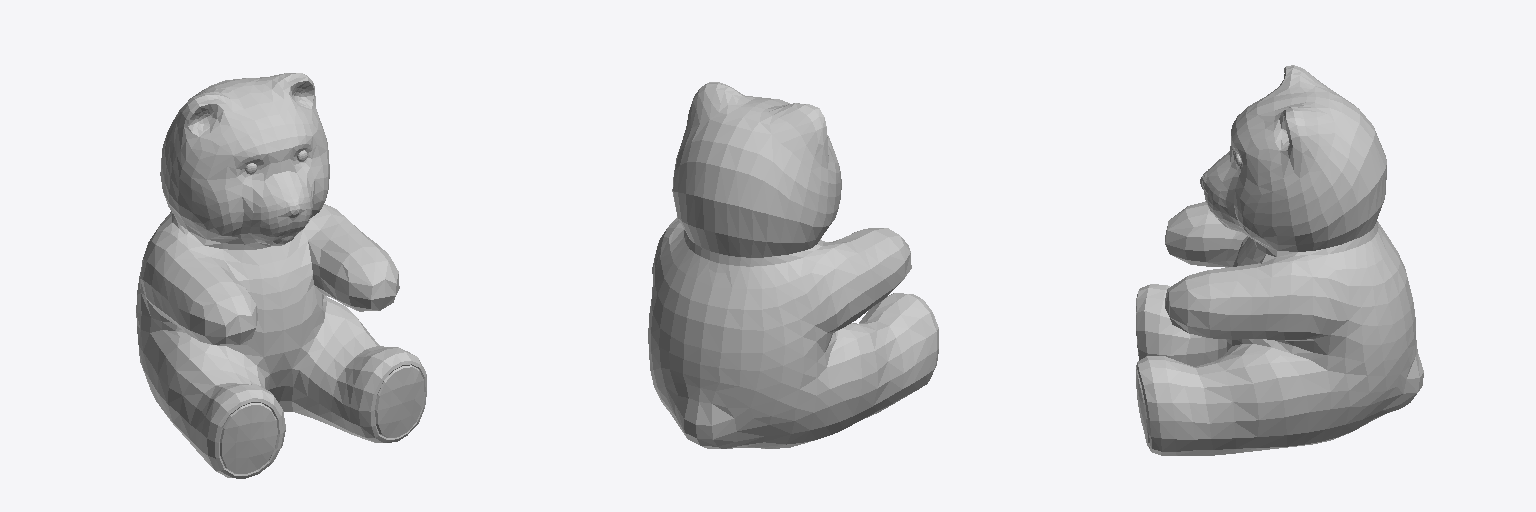
The model's file is Ursinho.obj.
3 views of the same model, side by side, from view 1: azimuth 30°, elevation 25°; view 2: azimuth 150°, elevation 25°; view 3: azimuth 270°, elevation 25° (orthographic).
Visible parts, largest first — view 1: Bear:Mesh; view 2: Bear:Mesh; view 3: Bear:Mesh.
Part boxes in pixels (x1,y1,x2,y2): Bear:Mesh: (136,73,426,478); Bear:Mesh: (648,82,938,448); Bear:Mesh: (1136,65,1423,455).
Size of the model in its own units: 0.7207 by 1.05 by 0.8249.